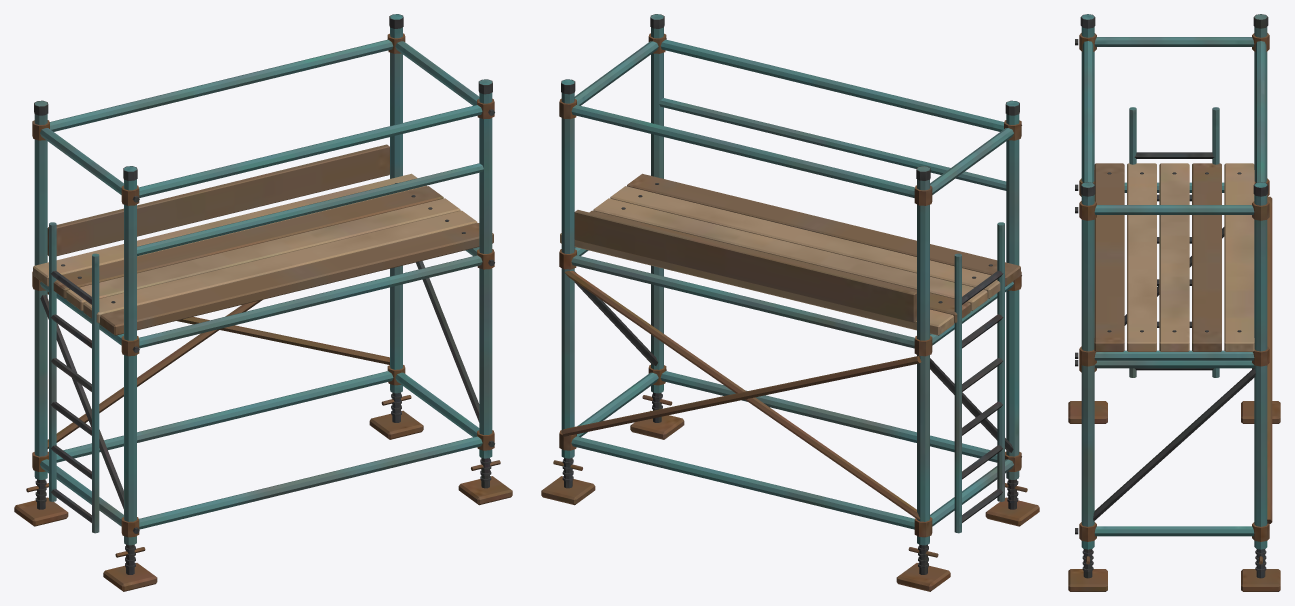
File: CS01_scaffolding_section_v1.glb
3 renders of one model, left to right at view 1: azimuth 30°, elevation 25°; view 2: azimuth 150°, elevation 25°; view 3: azimuth 270°, elevation 25°, orthographic. The views are drawn at different scales.
Parts seen in each view (by area): view 1: Square load spreading foot; view 2: Square load spreading foot; view 3: Square load spreading foot.
Boxes of the visible parts, x1=… form: Square load spreading foot: x1=14, y1=14, x2=512, y2=591; Square load spreading foot: x1=541, y1=14, x2=1039, y2=591; Square load spreading foot: x1=1068, y1=14, x2=1280, y2=591.
Bounding box in the file's own units: 2.98 × 3 × 1.45.
Materials: 5 (5 with a texture image).
